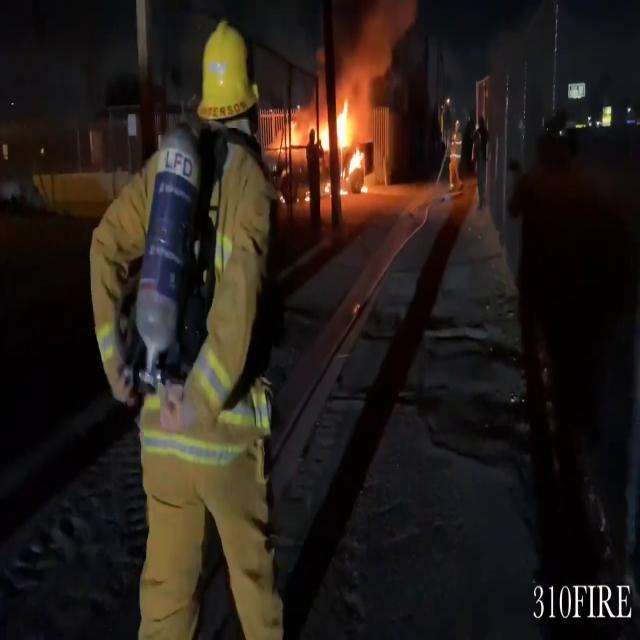Fire: (288, 88, 368, 192)
Smoke: (344, 0, 424, 93)
